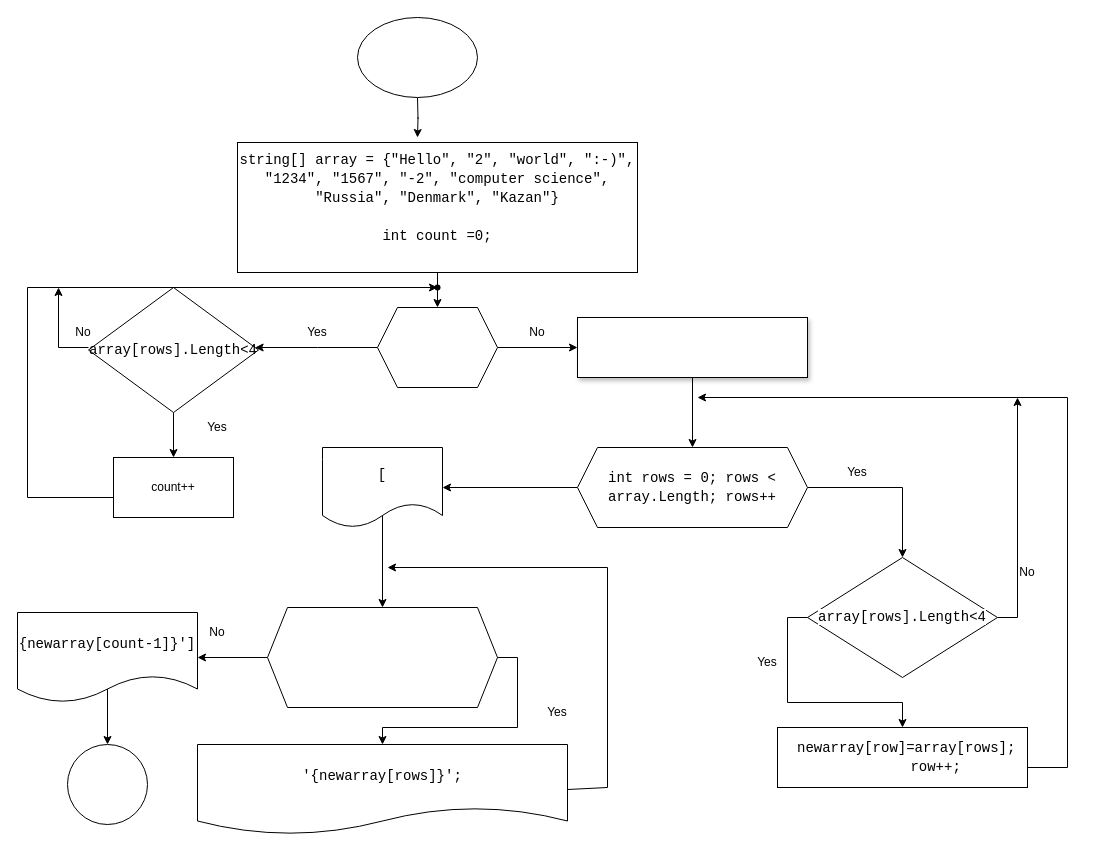
The diagram is 1093 pixels wide and 852 high, and some of its shapes have lost their labels. Here are the shapes that lost their labels. From the top down, the centre of each, then its label:
At (x=417, y=57): "Начало".
At (x=437, y=347): "int rows=0; rows<array.Length; rows++".
At (x=693, y=348): "string[] newarray = new string[count] int row=0;".
At (x=382, y=657): "int rows = 0; rows < count-1; rows++".
At (x=107, y=784): "Конец".
